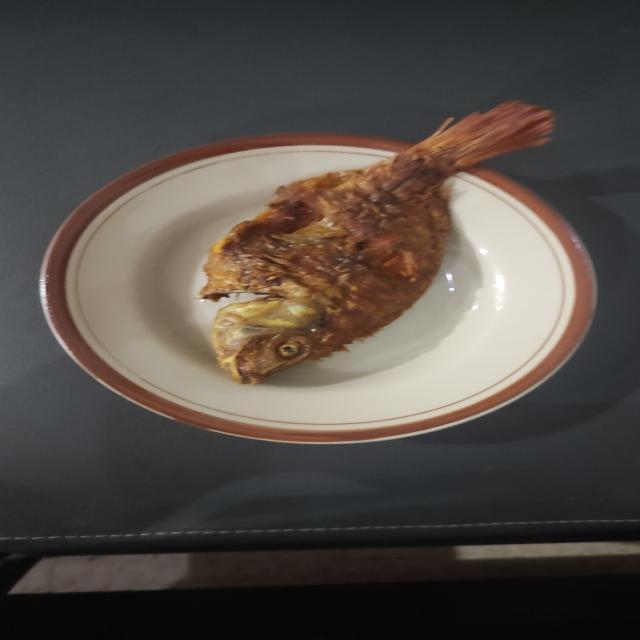ikan_mujair: (200, 101, 554, 384)
